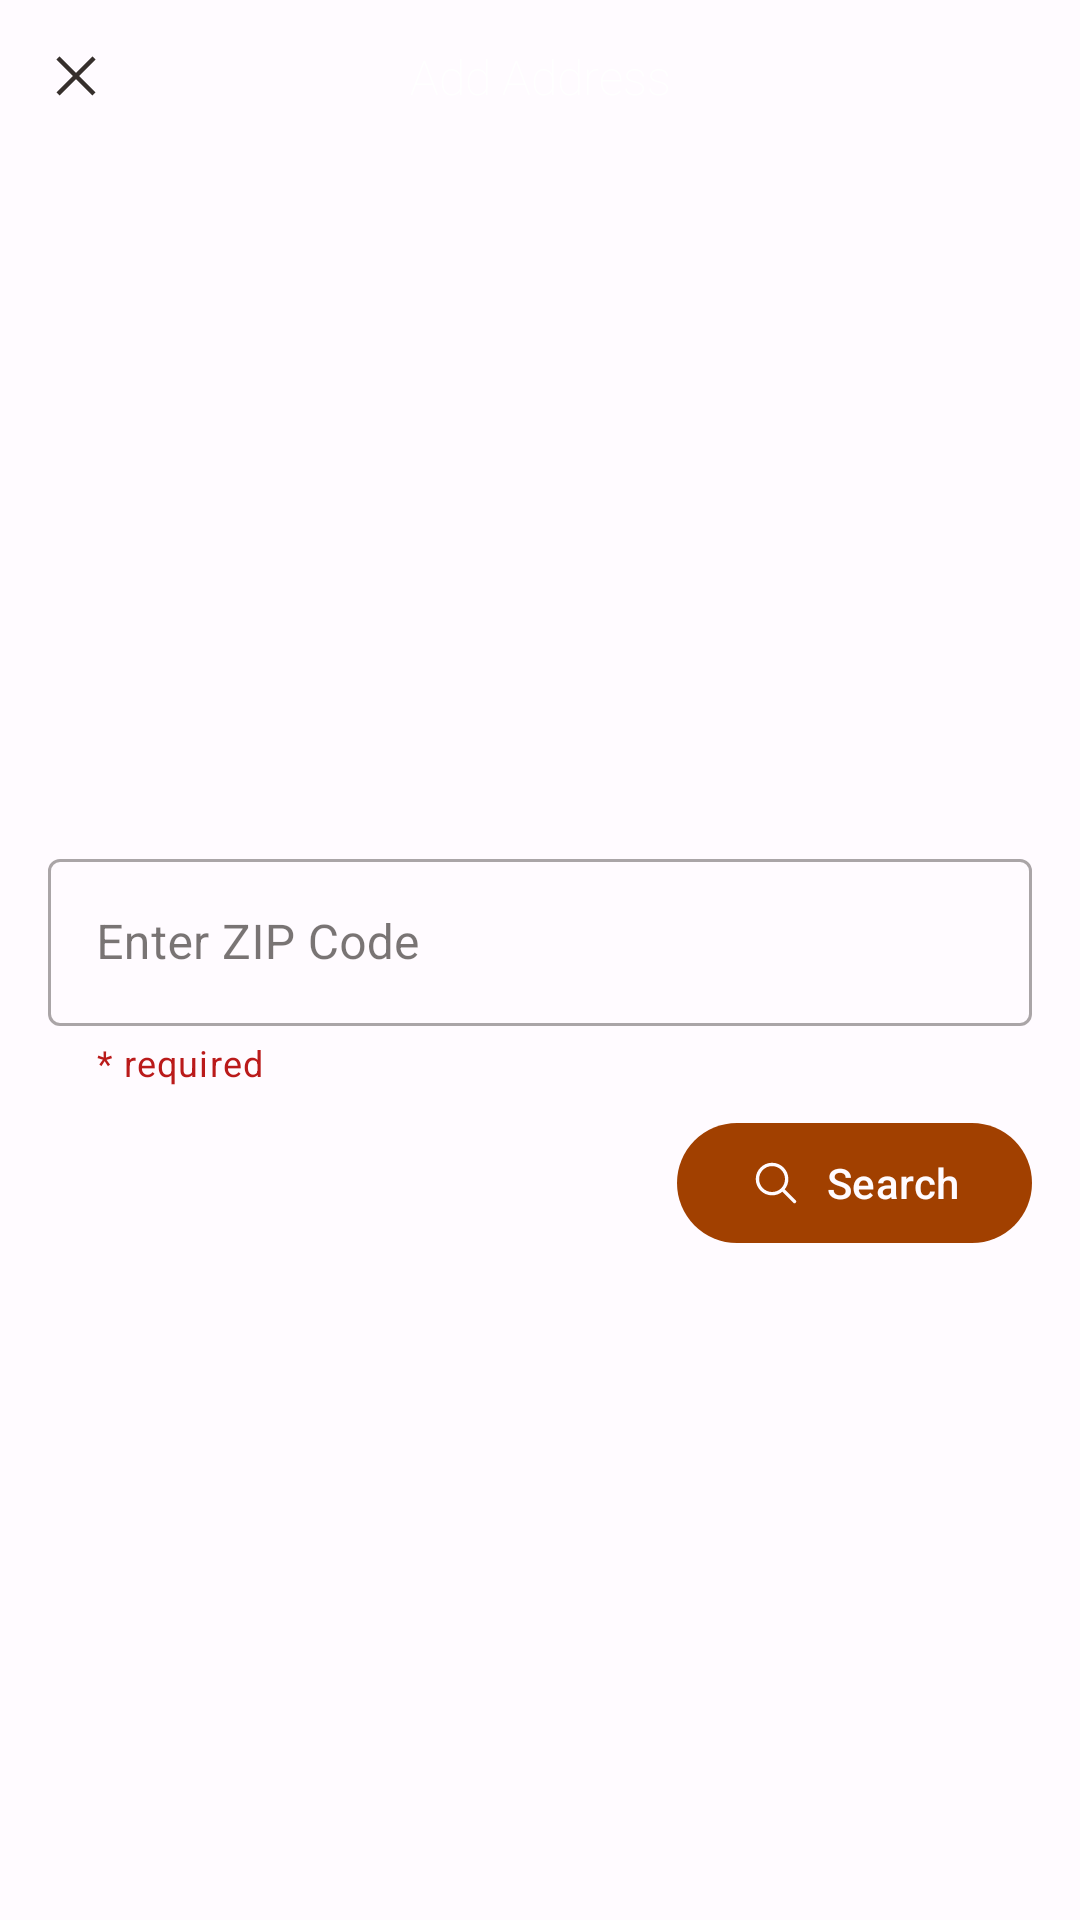

Icons on this 1080×1920 Android screen, each with its box as (x1=x1, y1=y1, x2=x2, y2=y2):
close: (x1=56, y1=56, x2=96, y2=96)
